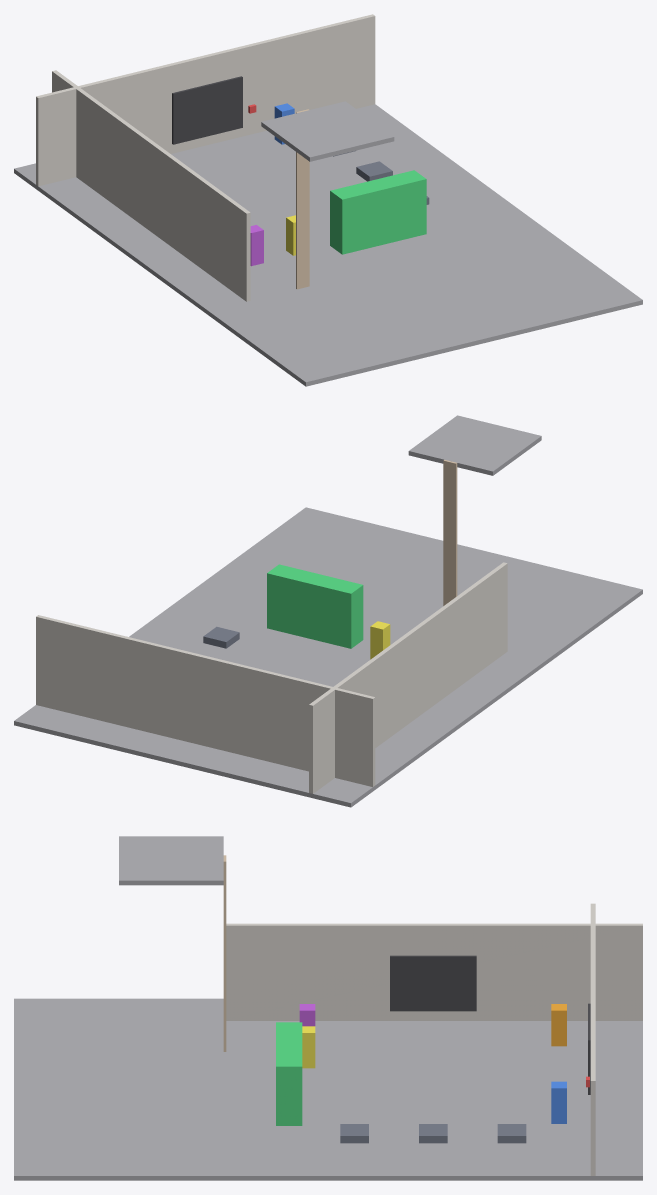
Rendered from test-room-compressed.glb.
The picture shows the model from 3 angles, top to bottom: view 1: azimuth 30°, elevation 25°; view 2: azimuth 150°, elevation 25°; view 3: azimuth 270°, elevation 25°; orthographic projection. The views are drawn at different scales.
Parts seen in each view (by area): view 1: Floor, BackWall, LeftWall, BigGreenBlock, LadderPlatform, BackMirrorFrame, Ladder, Pillar2; view 2: Floor, BackWall, LeftWall, BigGreenBlock, LadderPlatform, Ladder, Pillar3, Podium2; view 3: Floor, LeftWall, LadderPlatform, SideMirrorFrame, BigGreenBlock, BackWall, Ladder, Pillar0, Pillar1, Pillar3, Podium0, Podium1 (+1 smaller).
Boxes of the visible parts, x1,y1,x2,y2 form: Floor: (14,104,642,386); BackWall: (36,14,375,186); LeftWall: (52,70,250,301); BigGreenBlock: (330,170,426,254); LadderPlatform: (261,101,394,161); BackMirrorFrame: (172,76,242,144); Ladder: (296,109,309,289); Pillar2: (250,225,263,266); Floor: (14,507,642,807); BackWall: (36,615,375,786); LeftWall: (309,562,507,793); BigGreenBlock: (267,564,363,648); LadderPlatform: (408,415,541,475); Ladder: (443,459,457,605); Pillar3: (370,621,390,659); Podium2: (203,626,239,648); Floor: (14,998,642,1180); LeftWall: (226,923,642,1020); LadderPlatform: (119,836,223,885); SideMirrorFrame: (390,955,476,1011); BigGreenBlock: (276,1022,302,1125); BackWall: (590,903,595,1175); Ladder: (223,855,226,1051); Pillar0: (551,1004,566,1046); Pillar1: (551,1081,566,1123); Pillar3: (302,1026,315,1068); Podium0: (497,1124,526,1143); Podium1: (419,1124,447,1143).
Bounding box in the file's own units: 16 × 8.2 × 24.
